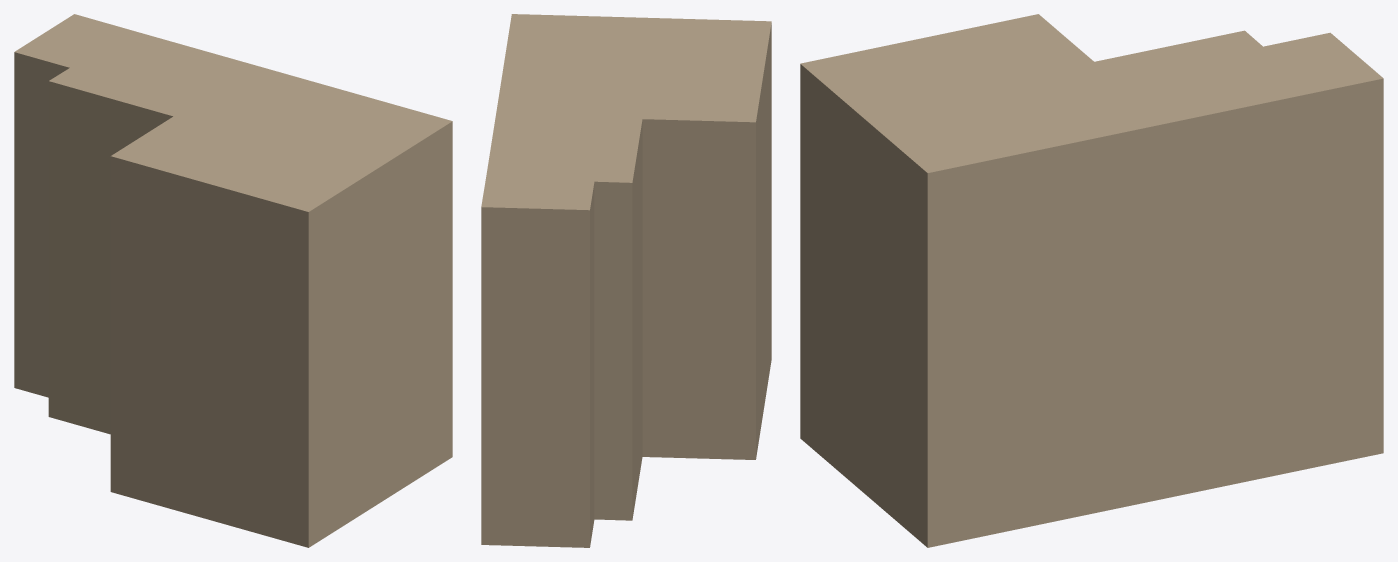
The model's file is bld_106415195.dae.
3 renders of one model, left to right at view 1: azimuth 30°, elevation 25°; view 2: azimuth 150°, elevation 25°; view 3: azimuth 270°, elevation 25°, orthographic. The views are drawn at different scales.
Parts seen in each view (by area): view 1: bld_106415195; view 2: bld_106415195; view 3: bld_106415195.
Boxes of the visible parts, x1,y1,x2,y2 form: bld_106415195: (14,14,452,547); bld_106415195: (481,14,771,547); bld_106415195: (800,14,1383,547).
Size of the model in its own units: 7.29 by 11.29 by 8.
